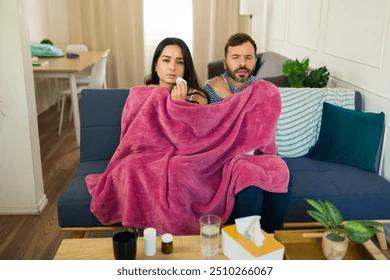blanket: (85, 78, 290, 237)
trousers: (232, 169, 293, 239)
